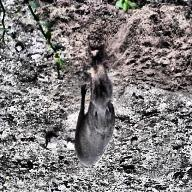boar: (69, 39, 137, 164)
